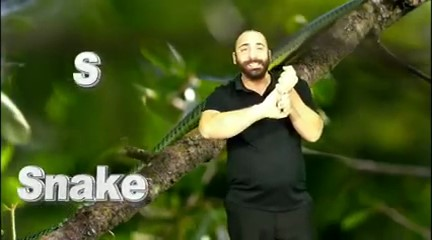S: (263, 61, 299, 120)
